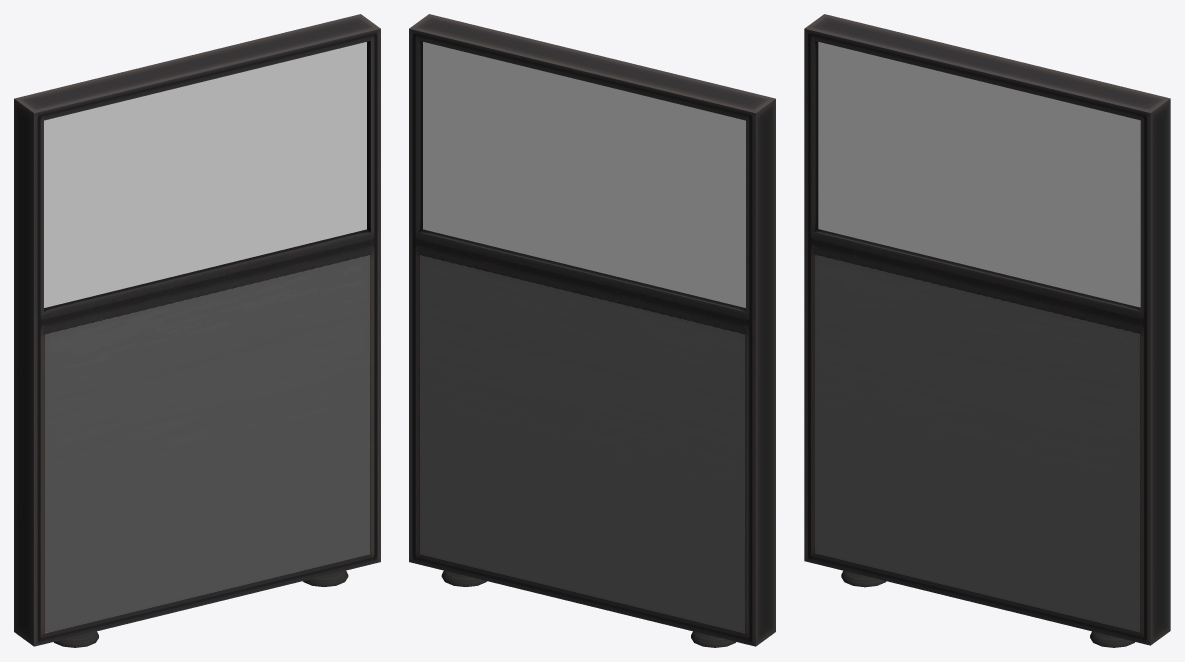
The model's file is OfficePartition01.fbx.
3 renders of one model, left to right at view 1: azimuth 30°, elevation 25°; view 2: azimuth 150°, elevation 25°; view 3: azimuth 330°, elevation 25°, orthographic.
Visible parts, largest first — view 1: OfficePartition01C; view 2: OfficePartition01C; view 3: OfficePartition01C.
Part boxes in pixels (x1,y1,x2,y2): OfficePartition01C: [14, 14, 380, 647]; OfficePartition01C: [409, 14, 775, 647]; OfficePartition01C: [804, 14, 1170, 647].
Size of the model in its own units: 1 by 1.5 by 0.12.
Materials: 1 (1 with a texture image).
